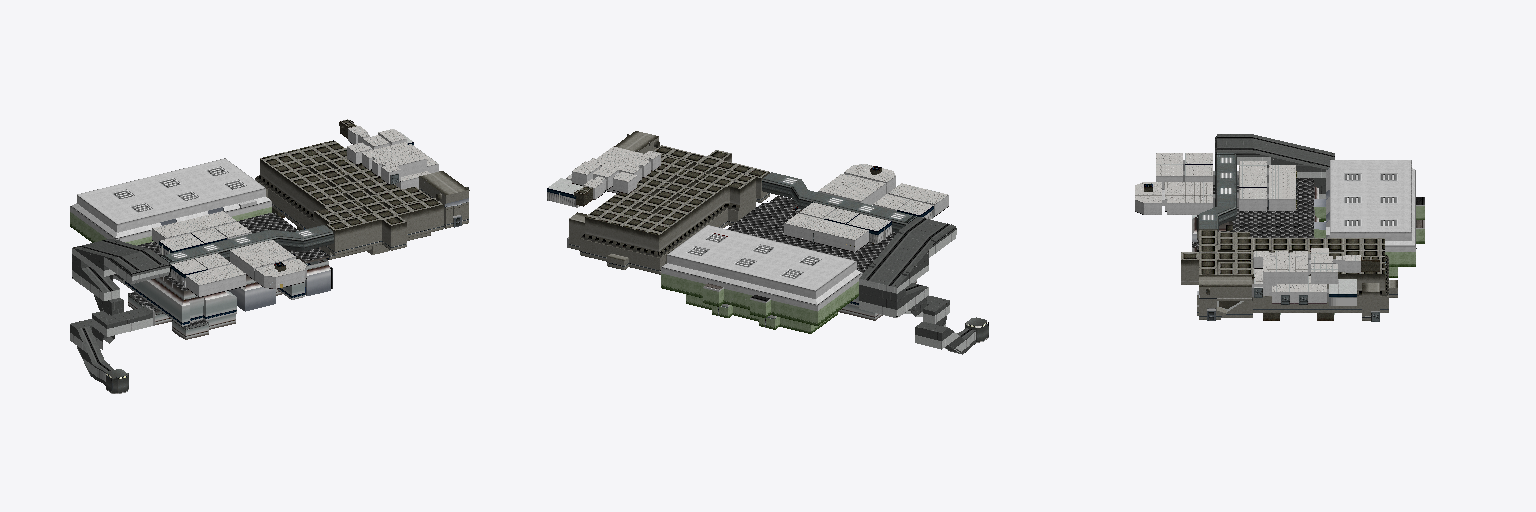
3 renders of one model, left to right at view 1: azimuth 30°, elevation 25°; view 2: azimuth 150°, elevation 25°; view 3: azimuth 270°, elevation 25°, orthographic.
Parts seen in each view (by area): view 1: Lvl5Niv1; view 2: Lvl5Niv1; view 3: Lvl5Niv1.
Part boxes in pixels (bbox=[...]): Lvl5Niv1: bbox=[70, 119, 469, 393]; Lvl5Niv1: bbox=[547, 131, 988, 354]; Lvl5Niv1: bbox=[1135, 134, 1424, 321].
Bounding box in the file's own units: 93.35 × 31.99 × 64.37.
Materials: 15 (14 with a texture image).